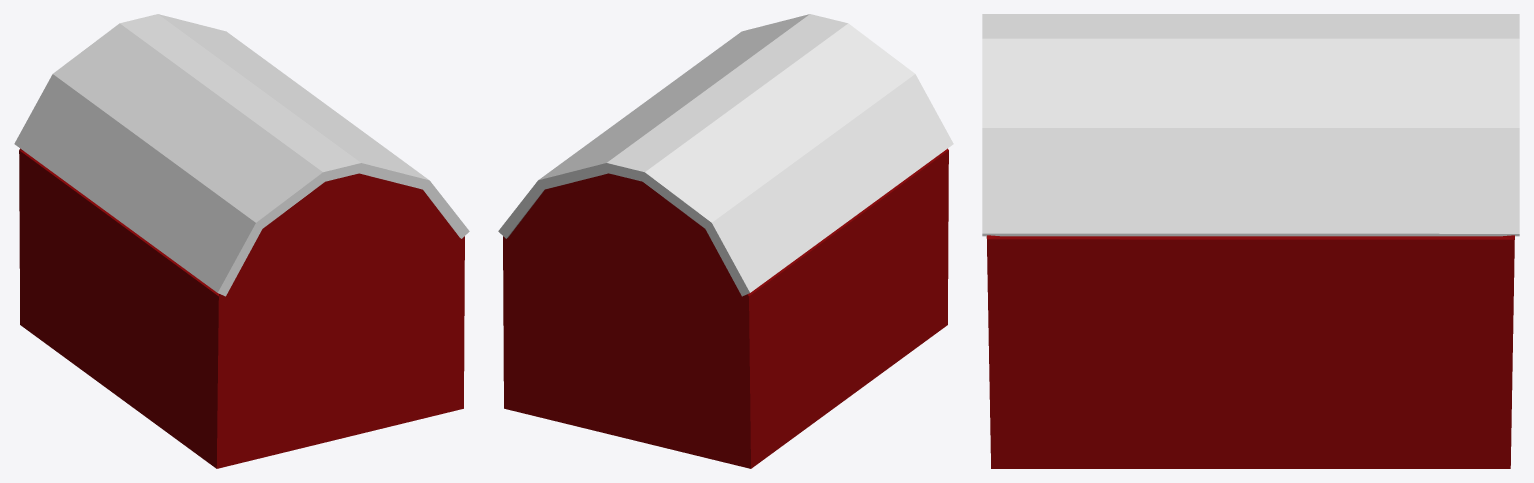
File: Farmhouse.fbx
3 renders of one model, left to right at view 1: azimuth 30°, elevation 25°; view 2: azimuth 150°, elevation 25°; view 3: azimuth 270°, elevation 25°, orthographic. The views are drawn at different scales.
Parts seen in each view (by area): view 1: Farmland; view 2: Farmland; view 3: Farmland.
Part boxes in pixels (x1,y1,x2,y2): Farmland: (14, 14, 469, 468); Farmland: (498, 14, 953, 468); Farmland: (982, 14, 1519, 468).
Bounding box in the file's own units: 26.11 × 36.51 × 27.12.
